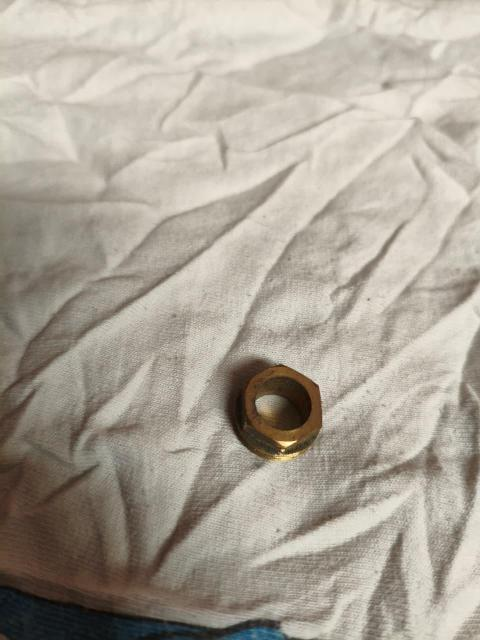Metal: (235, 358, 323, 460)
